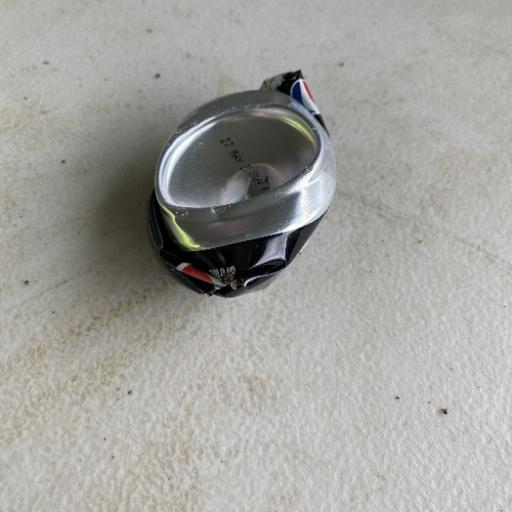Metal: (144, 67, 339, 300)
